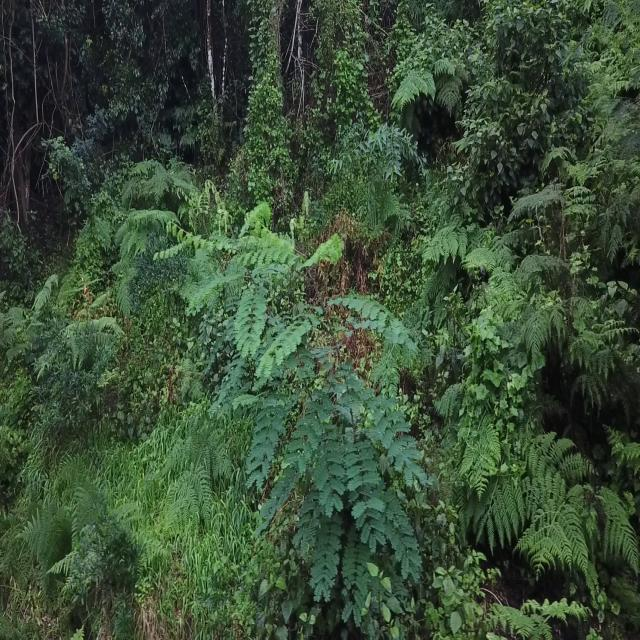Mysore-Thorn-Weed: (235, 211, 425, 612), (169, 187, 271, 378)
